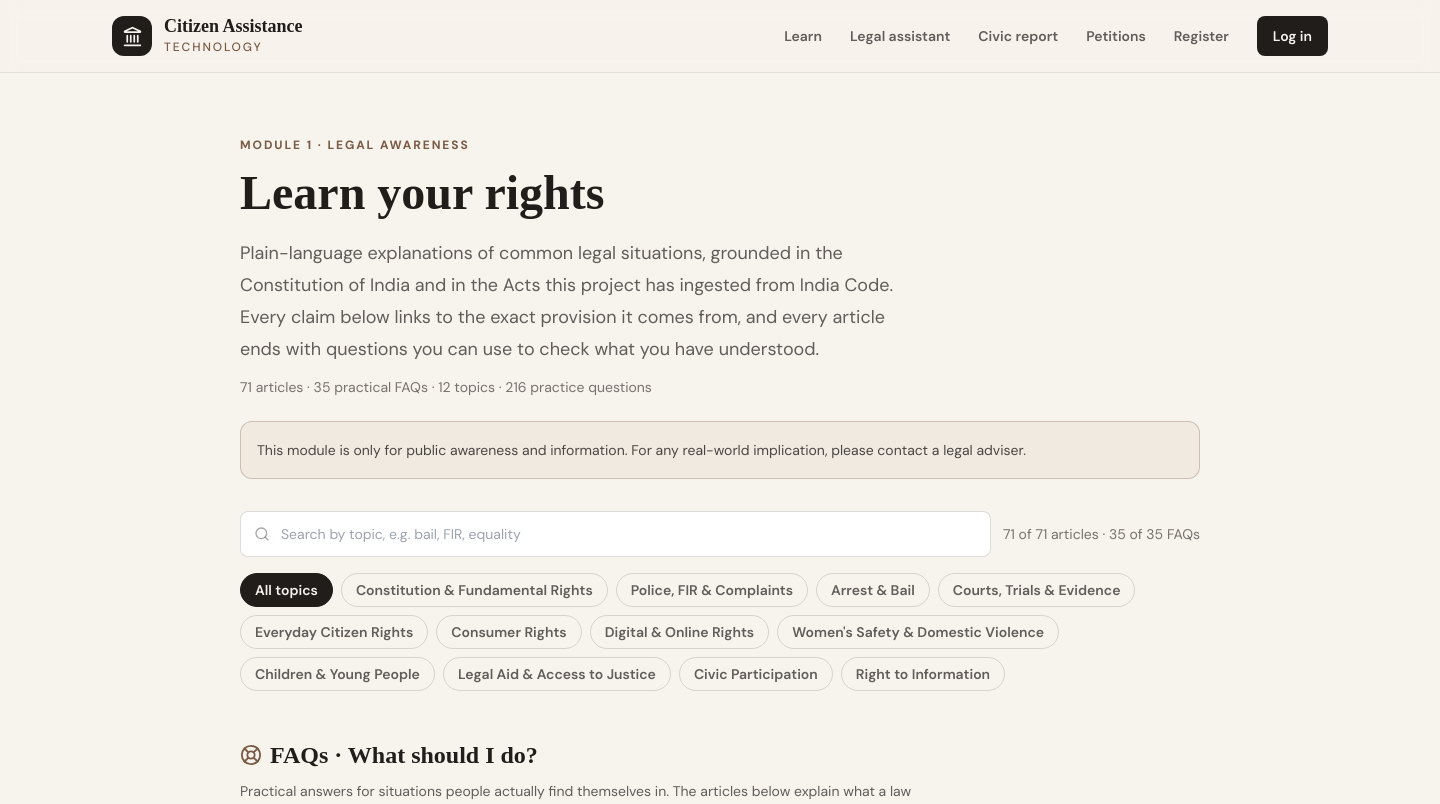
LearnPage › hides the FAQ section when nothing matches, without breaking the empty state
Type "zzzzz no such topic" into the search field named "Search learning articles".
click(616, 534); type("zzzzz no such topic")  # box x1=240 y1=511 x2=991 y2=557
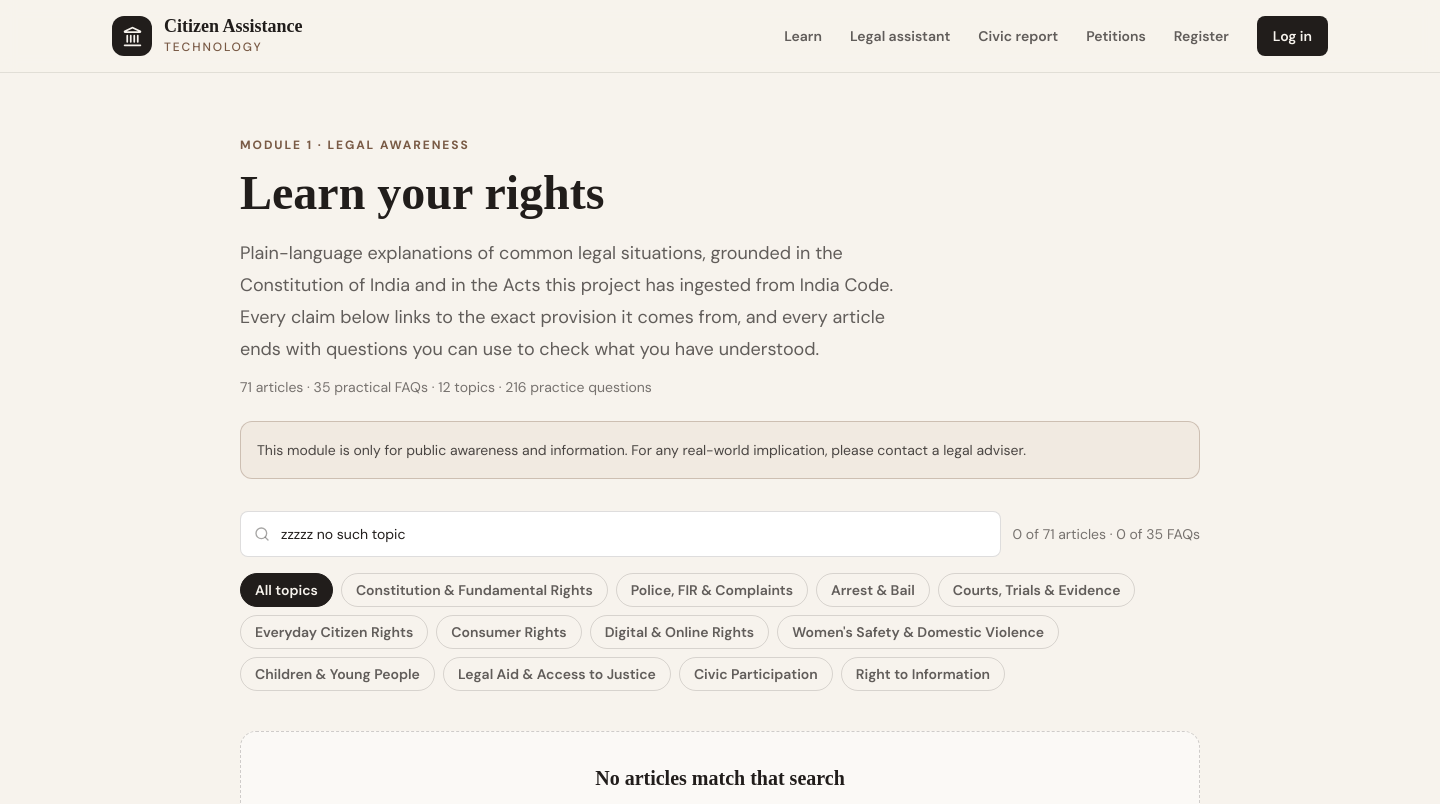
Expected: the heading "FAQs · What should I do?" is gone
Expected: the text "No articles match that search" is shown, x1=595 y1=767 x2=845 y2=789
